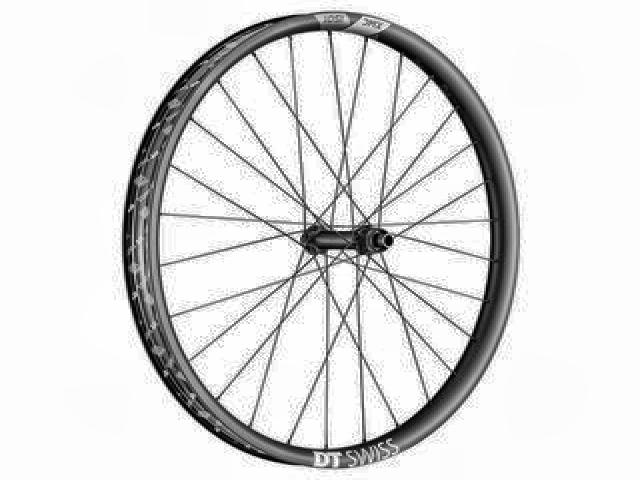wheel: (118, 11, 528, 471)
